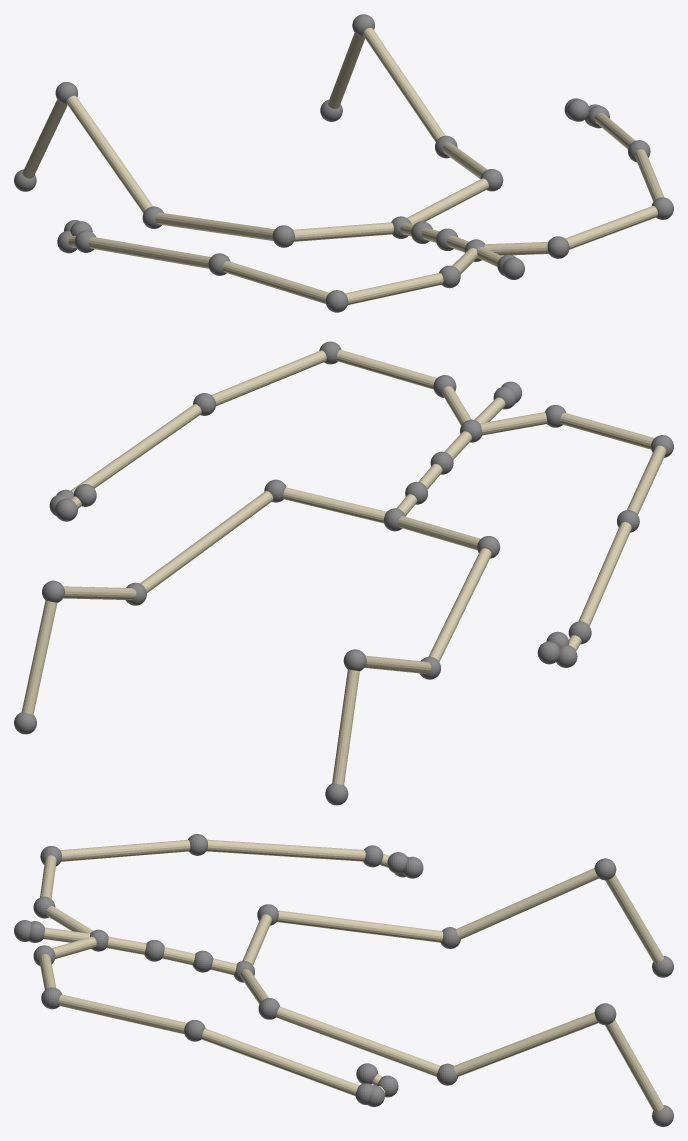
3 renders of one model, top to bottom at view 1: azimuth 30°, elevation 25°; view 2: azimuth 150°, elevation 25°; view 3: azimuth 270°, elevation 25°, orthographic. The views are drawn at different scales.
Visible parts, largest first — view 1: world; view 2: world; view 3: world.
Part boxes in pixels (<box>): world: <box>14,14,673,312</box>; world: <box>14,341,673,805</box>; world: <box>14,834,673,1126</box>.
Bounding box in the file's own units: 0.8111 × 0.2184 × 0.9018.
